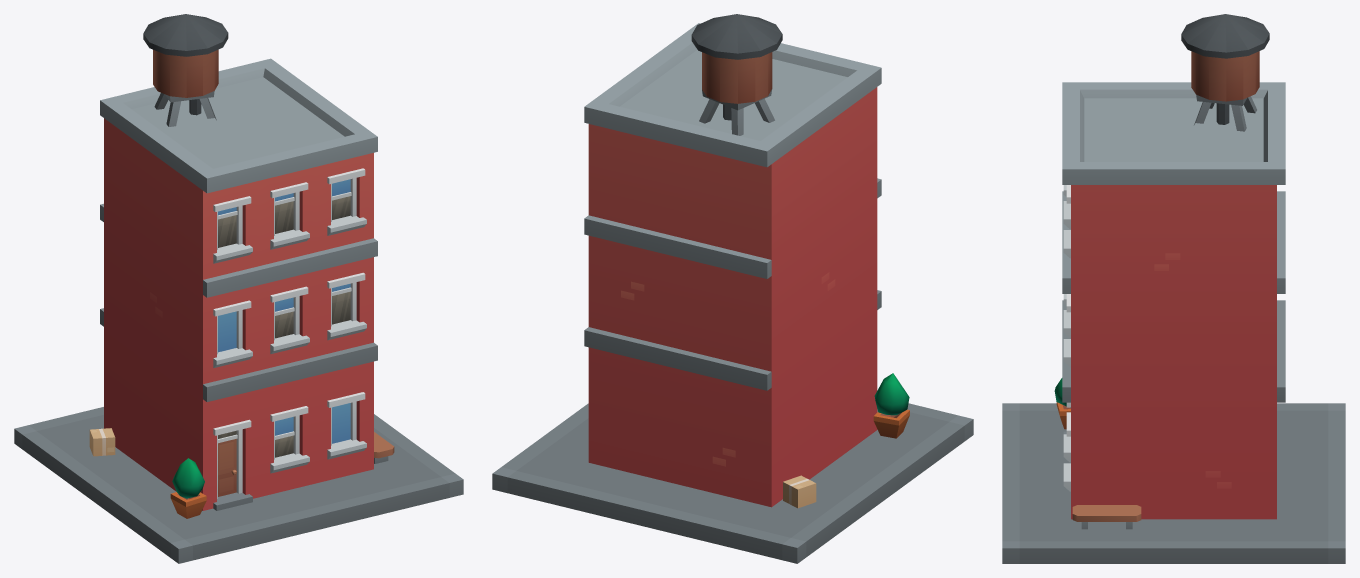
The model's file is building-C.glb.
The picture shows the model from 3 angles, left to right: view 1: azimuth 30°, elevation 25°; view 2: azimuth 150°, elevation 25°; view 3: azimuth 270°, elevation 25°; orthographic projection. The views are drawn at different scales.
Parts seen in each view (by area): view 1: building_C; view 2: building_C; view 3: building_C.
Part boxes in pixels (x1,y1,x2,y2): building_C: (14,14,463,563); building_C: (492,14,973,563); building_C: (1002,14,1345,563).
Bounding box in the file's own units: 2 × 2.98 × 2.
Materials: 1 (1 with a texture image).
